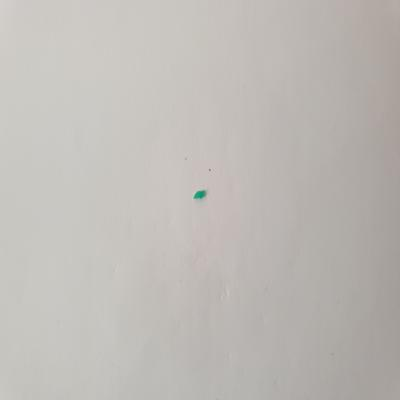plastic: (187, 187, 210, 201)
